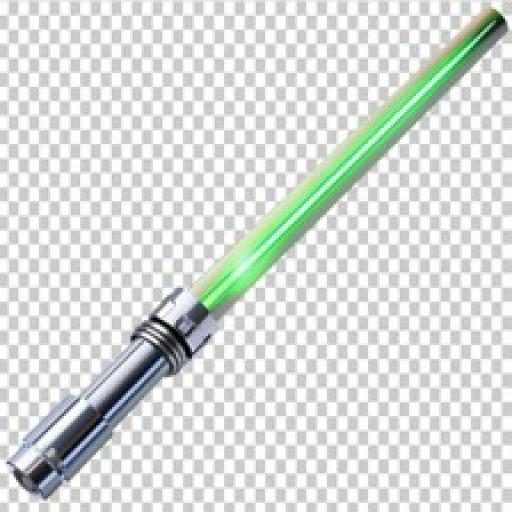lightsaber: (8, 9, 506, 500)
